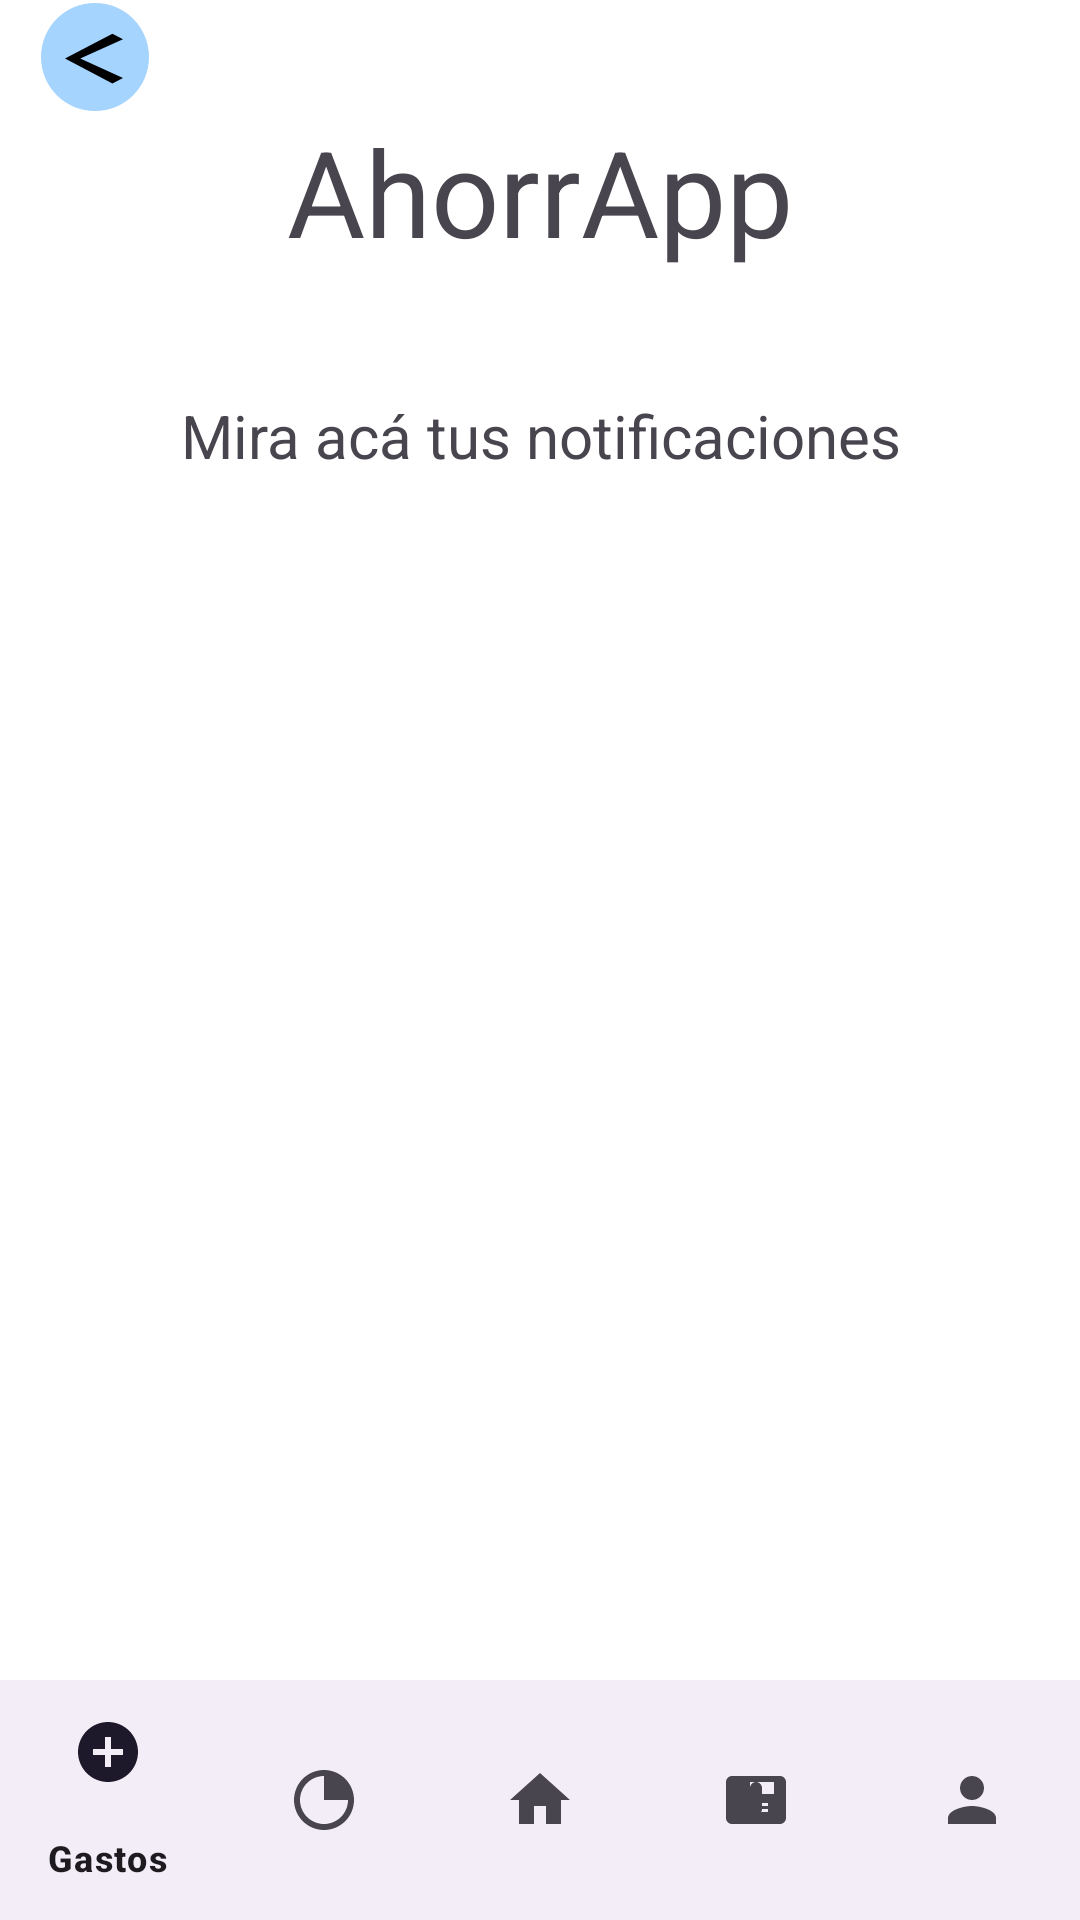

Point at icon controls on the screen. Image size 1080px x 1920px, points as [x,y].
arrow back: [95,57]
